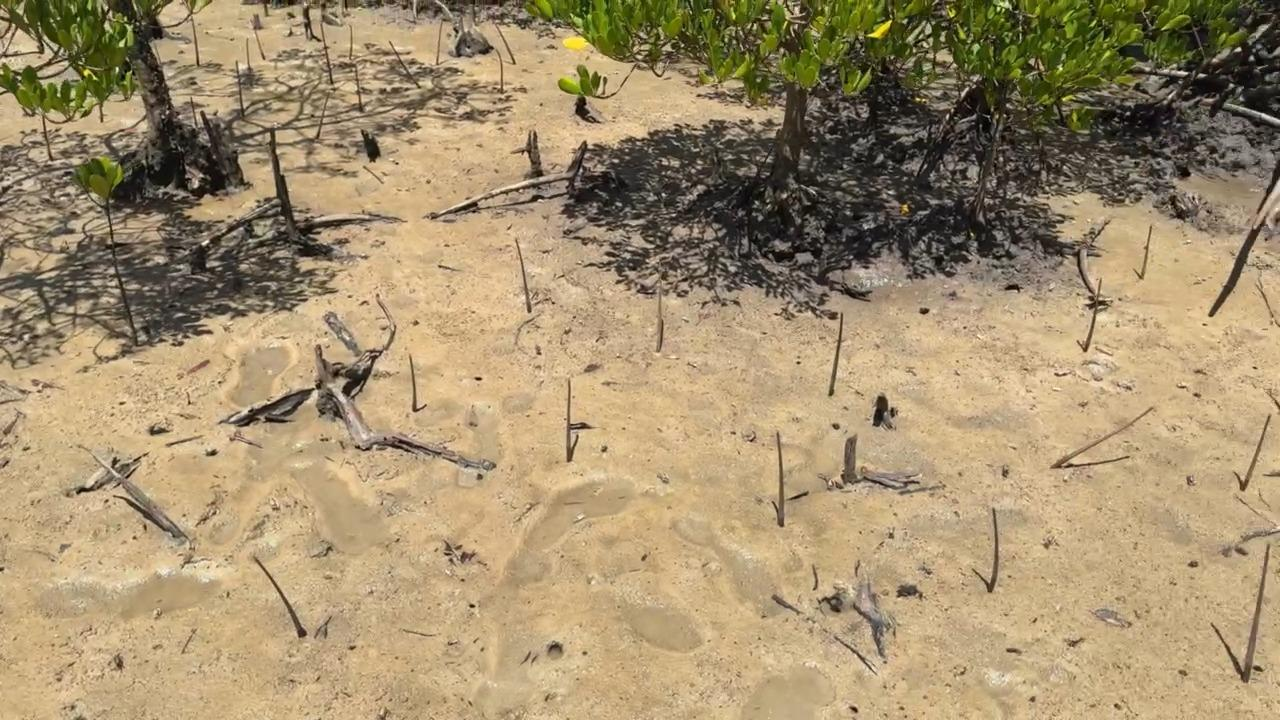Tree: (72, 157, 139, 345), (1051, 406, 1154, 468), (253, 555, 309, 639), (1243, 545, 1272, 683), (1241, 413, 1271, 491), (1083, 278, 1103, 353), (390, 42, 420, 89), (828, 312, 844, 395), (515, 239, 532, 313), (988, 507, 999, 592), (320, 24, 334, 85), (495, 23, 516, 62), (777, 432, 785, 526), (316, 92, 332, 137), (656, 269, 664, 353), (1141, 225, 1153, 281), (565, 379, 572, 462), (235, 59, 245, 115), (192, 13, 201, 66), (43, 115, 53, 162), (410, 354, 418, 411), (245, 38, 253, 87), (436, 22, 444, 65), (356, 68, 364, 111), (496, 50, 504, 92), (254, 30, 265, 59), (349, 25, 354, 60)
